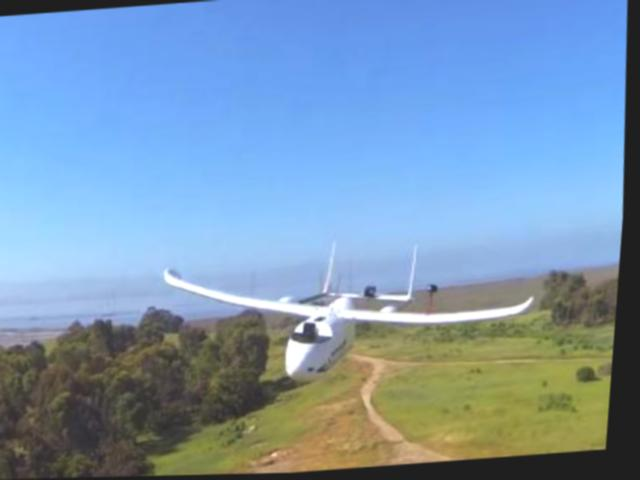uav: (160, 235, 547, 397)
